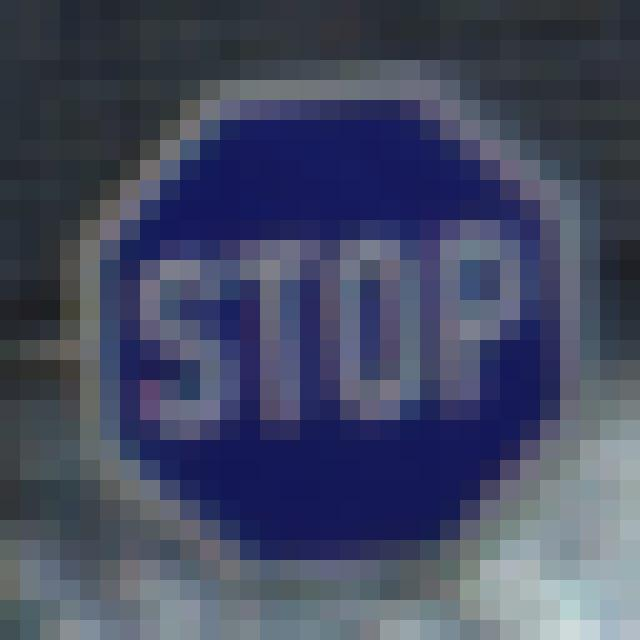STOP: (81, 81, 574, 570)
